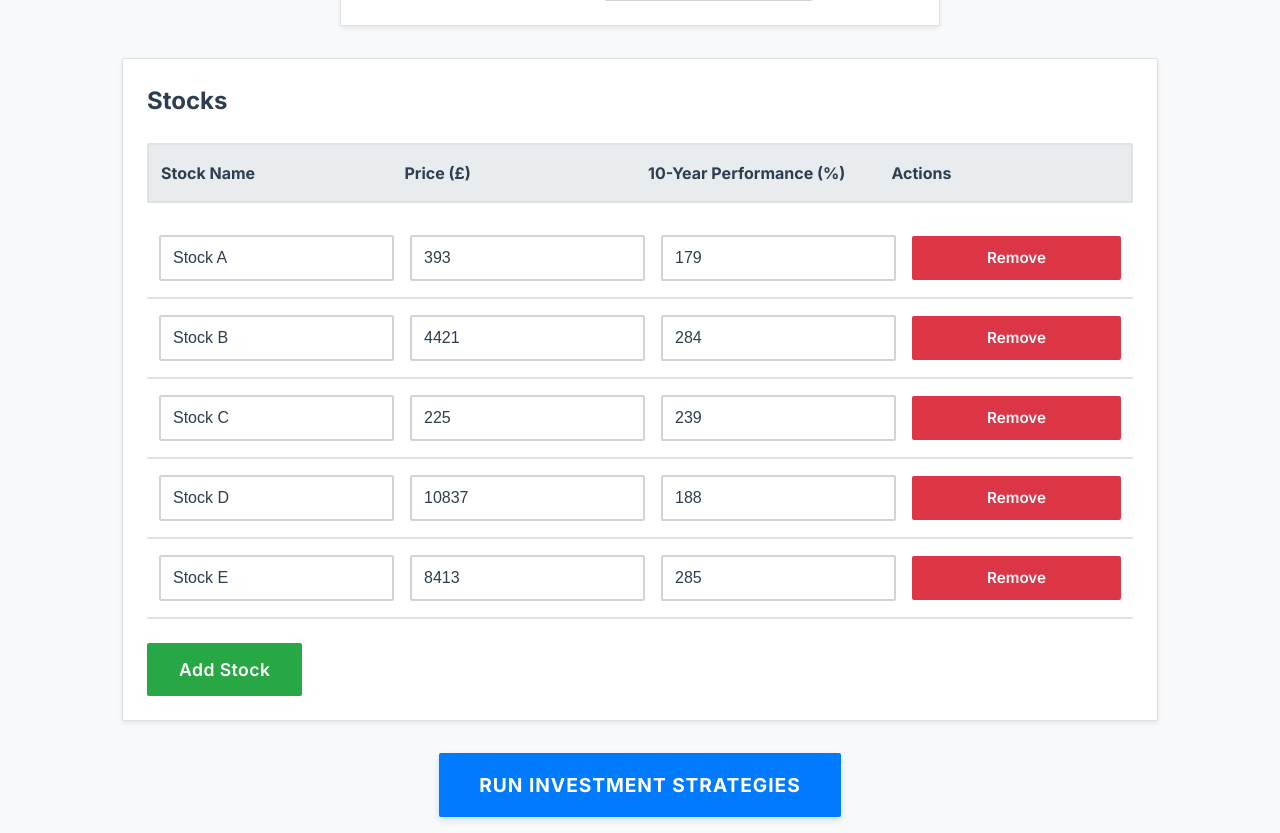
it: PortfolioOptimizer › adds a new stock when add button is clicked
(page scrolled)
Click the button "Add Stock" at point(225, 669), box [147,643,302,696]
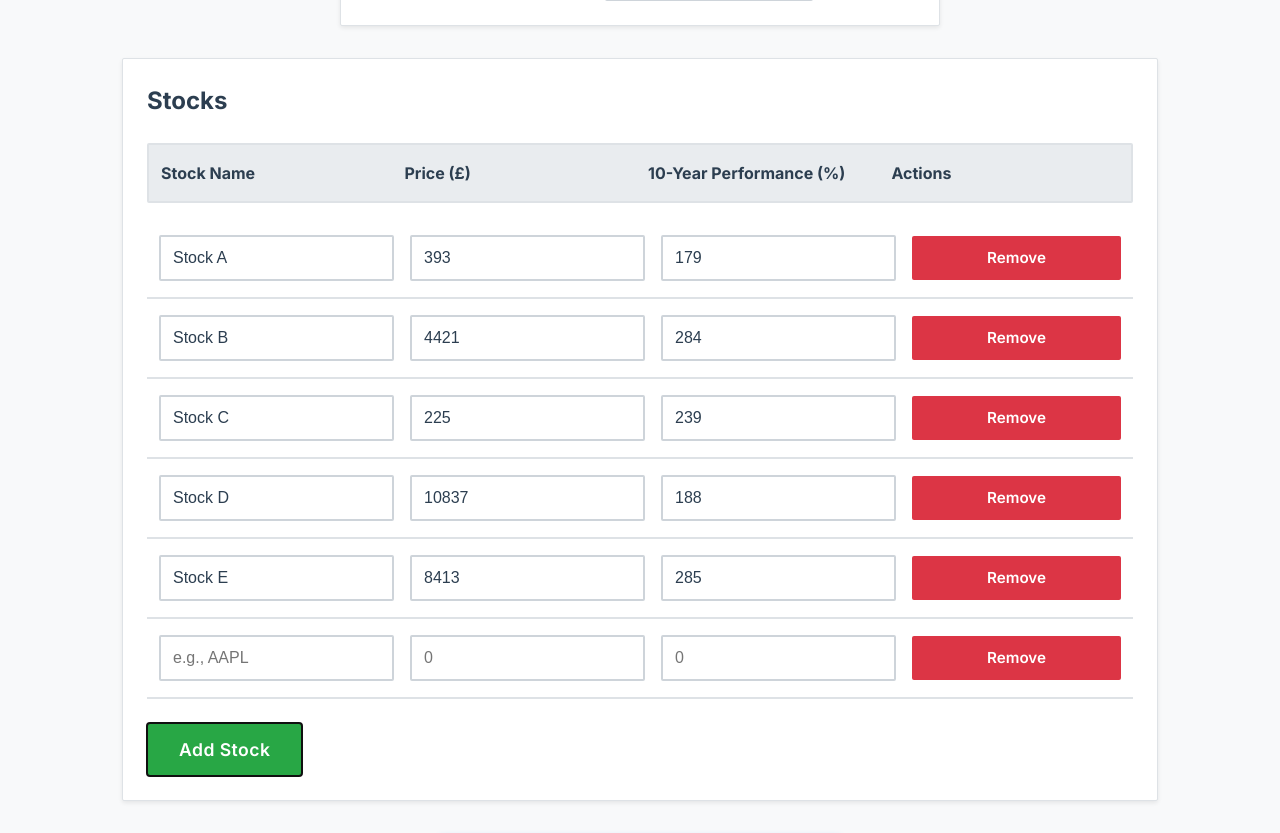
Expected: the number of fields with placeholder "e.g., AAPL" is 6, [159,235,394,281]; [159,315,394,361]; [159,395,394,441]; [159,475,394,521]; [159,555,394,601]; [159,635,394,681]
